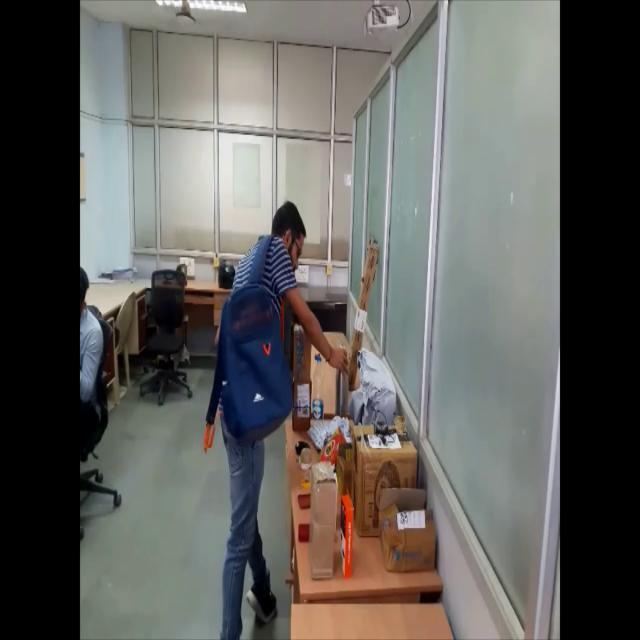normal: (223, 189, 349, 640)
